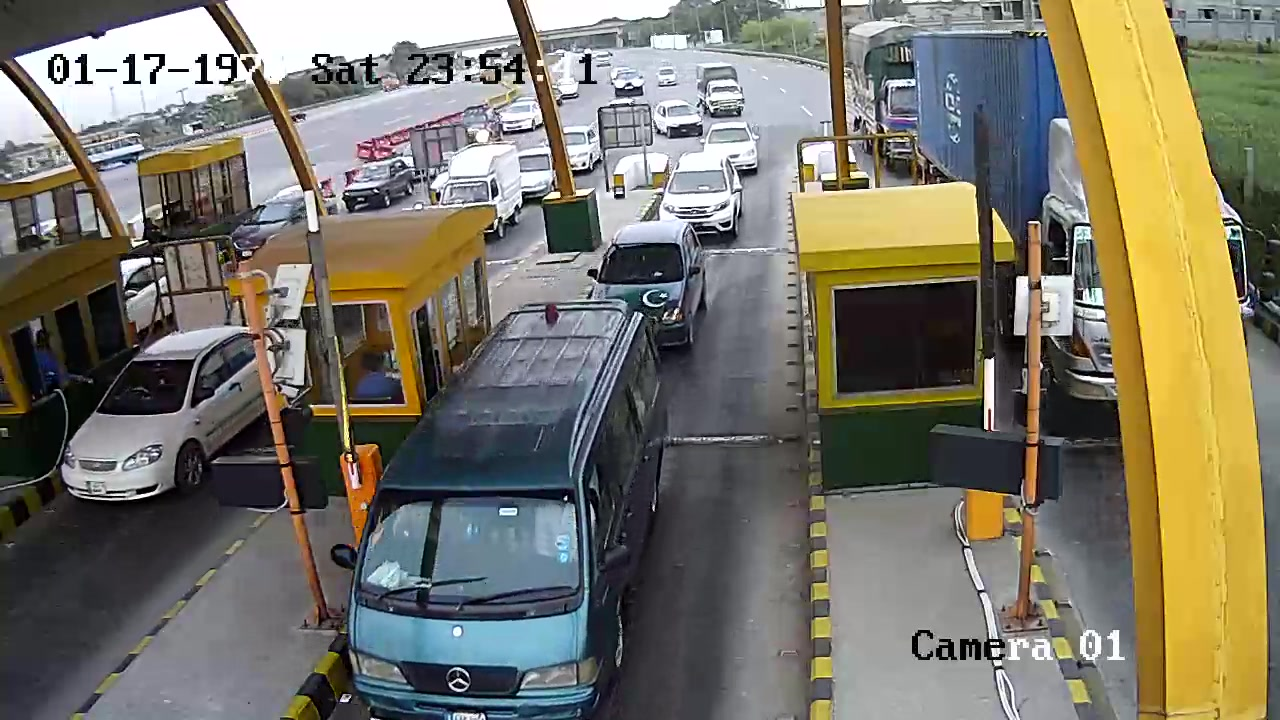F3: (334, 301, 693, 705)
